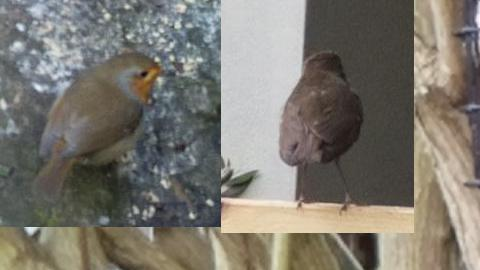robin: (30, 50, 171, 204), (278, 50, 364, 216)
